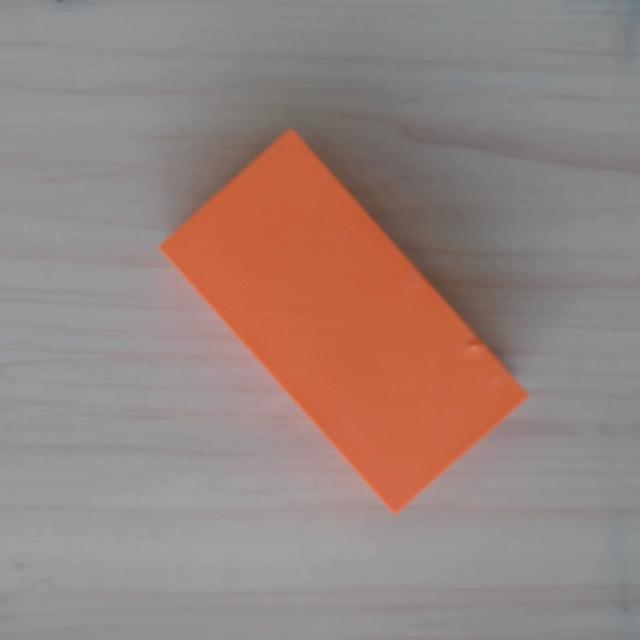Balok-Jingga-1005025: (156, 126, 530, 515)
